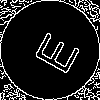E: (25, 25, 81, 77)
